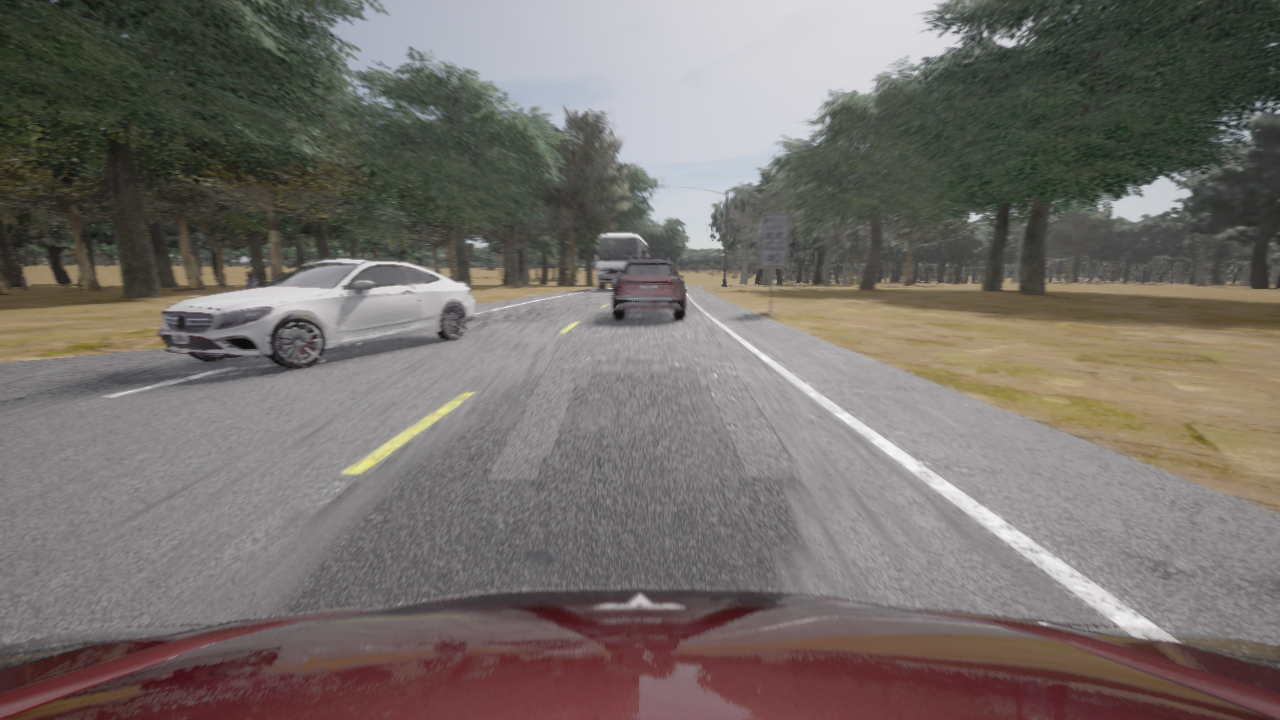cyclist: (0, 588, 1279, 719), (159, 258, 475, 368), (613, 257, 685, 319), (592, 232, 648, 288)
